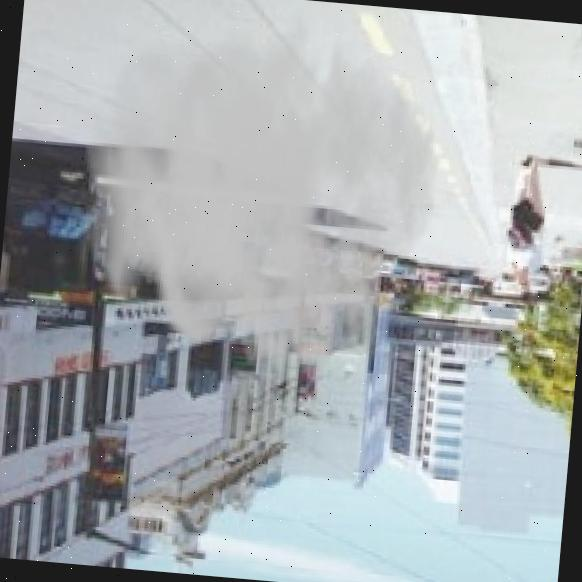smoke: (67, 0, 454, 398)
